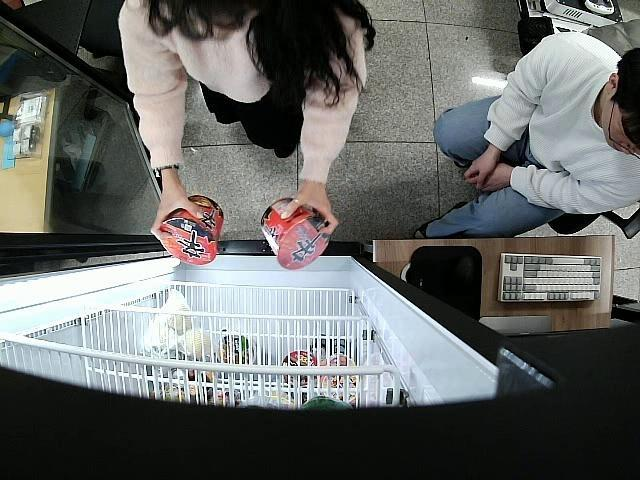01_ShinRamen_L: (259, 197, 330, 270), (160, 193, 223, 264)
